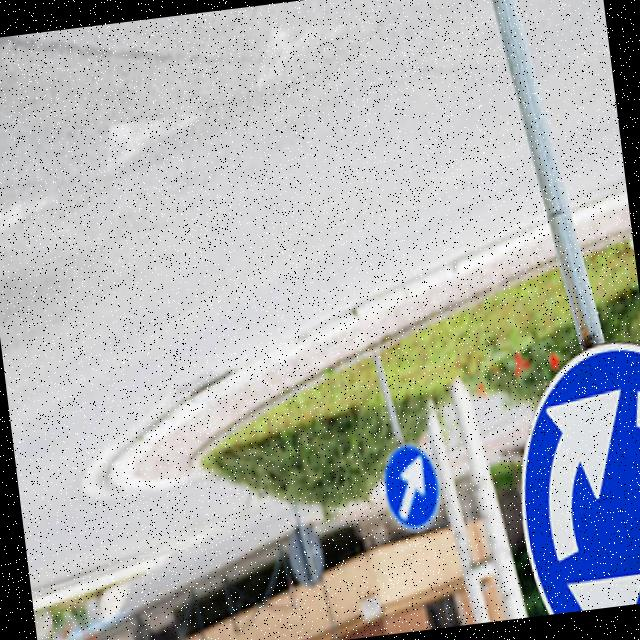round_about: (495, 334, 640, 617)
